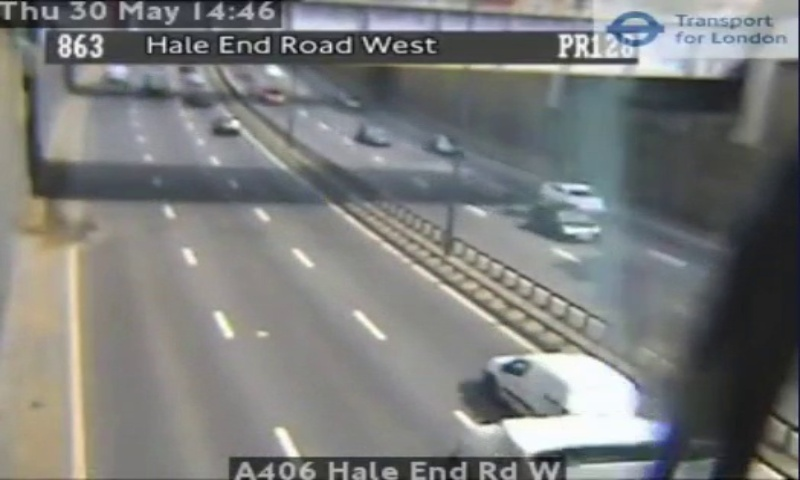van: (488, 353, 638, 413)
